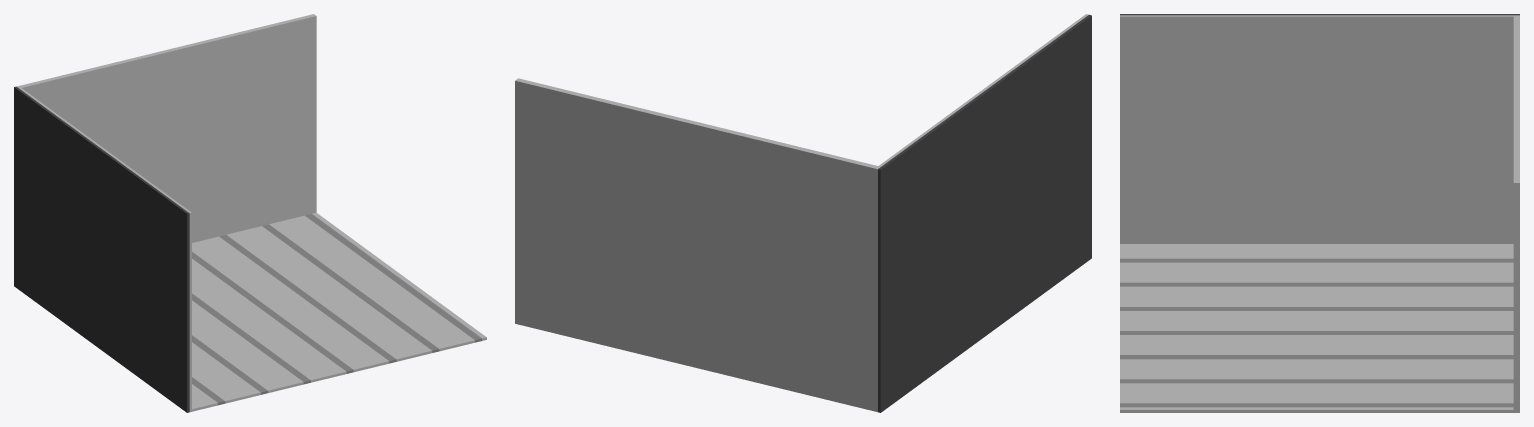
File: 4x2 first (2)-10.obj
The picture shows the model from 3 angles, left to right: view 1: azimuth 30°, elevation 25°; view 2: azimuth 150°, elevation 25°; view 3: azimuth 270°, elevation 25°; orthographic projection. The views are drawn at different scales.
Parts seen in each view (by area): view 1: 4x2 first (2)-2; view 2: 4x2 first (2)-2; view 3: 4x2 first (2)-2.
Boxes of the visible parts, x1=… form: 4x2 first (2)-2: x1=14, y1=14, x2=486, y2=412; 4x2 first (2)-2: x1=515, y1=14, x2=1091, y2=412; 4x2 first (2)-2: x1=1120, y1=14, x2=1519, y2=412.
Size of the model in its own units: 126 by 80 by 126.
Materials: 1 (1 with a texture image).
